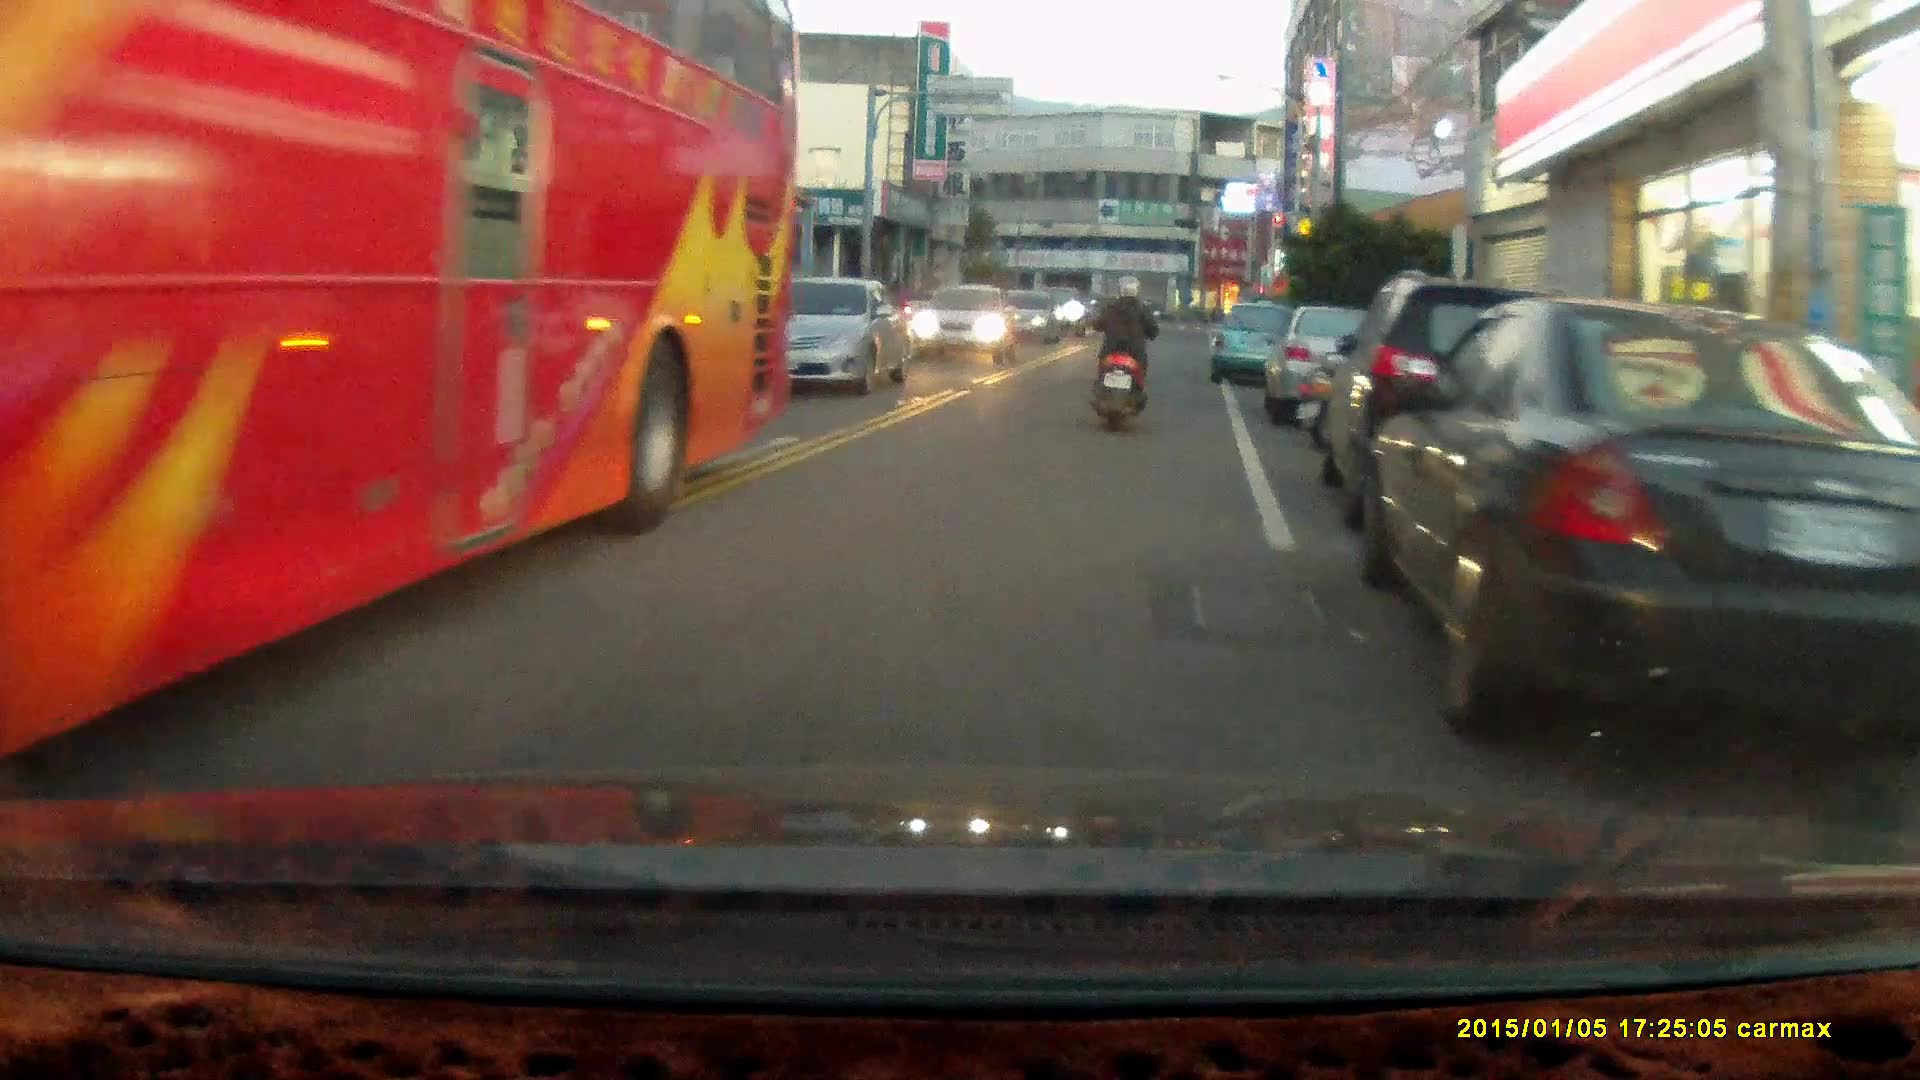rider: (1085, 273, 1159, 432)
vehicle: (1, 9, 804, 757), (1361, 298, 1920, 762), (1312, 268, 1664, 542), (1264, 304, 1450, 434), (728, 276, 907, 397), (911, 282, 1021, 366), (1209, 300, 1304, 387)
